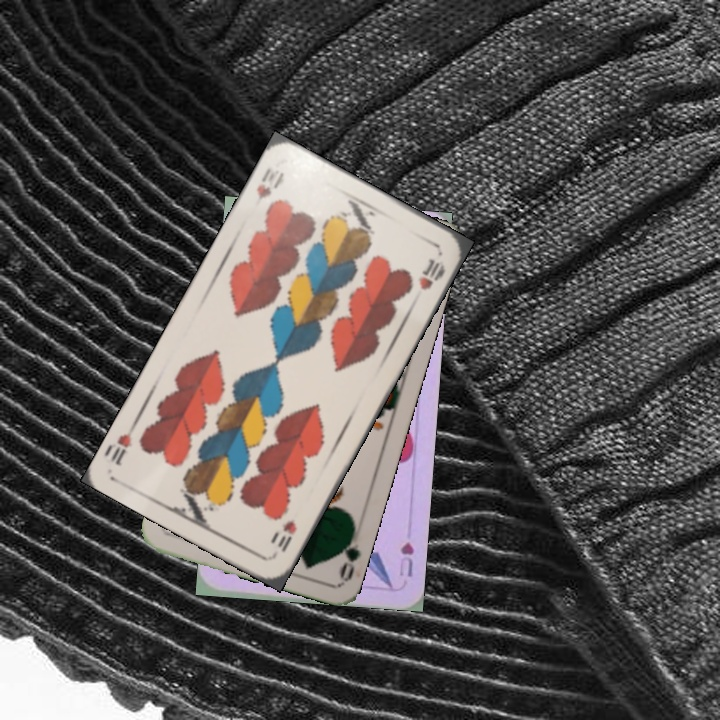GO: (333, 522, 363, 583)
H10: (250, 163, 287, 209), (269, 515, 300, 559)
HU: (395, 538, 417, 579)
